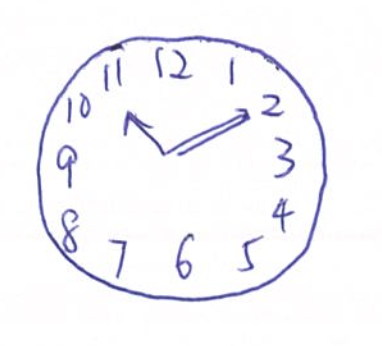1: (227, 54, 238, 86)
10: (63, 93, 92, 124)
11: (102, 56, 125, 93)
12: (153, 47, 196, 80)
2: (261, 92, 287, 118)
3: (271, 135, 296, 181)
4: (268, 195, 295, 235)
5: (236, 234, 265, 275)
6: (174, 233, 197, 280)
7: (106, 236, 128, 279)
8: (59, 206, 80, 256)
9: (55, 143, 78, 189)
contour: (34, 34, 330, 303)
hand: (123, 108, 251, 155)
top_left_arrow: (122, 109, 164, 155)
top_right_arrow: (165, 109, 250, 155)
